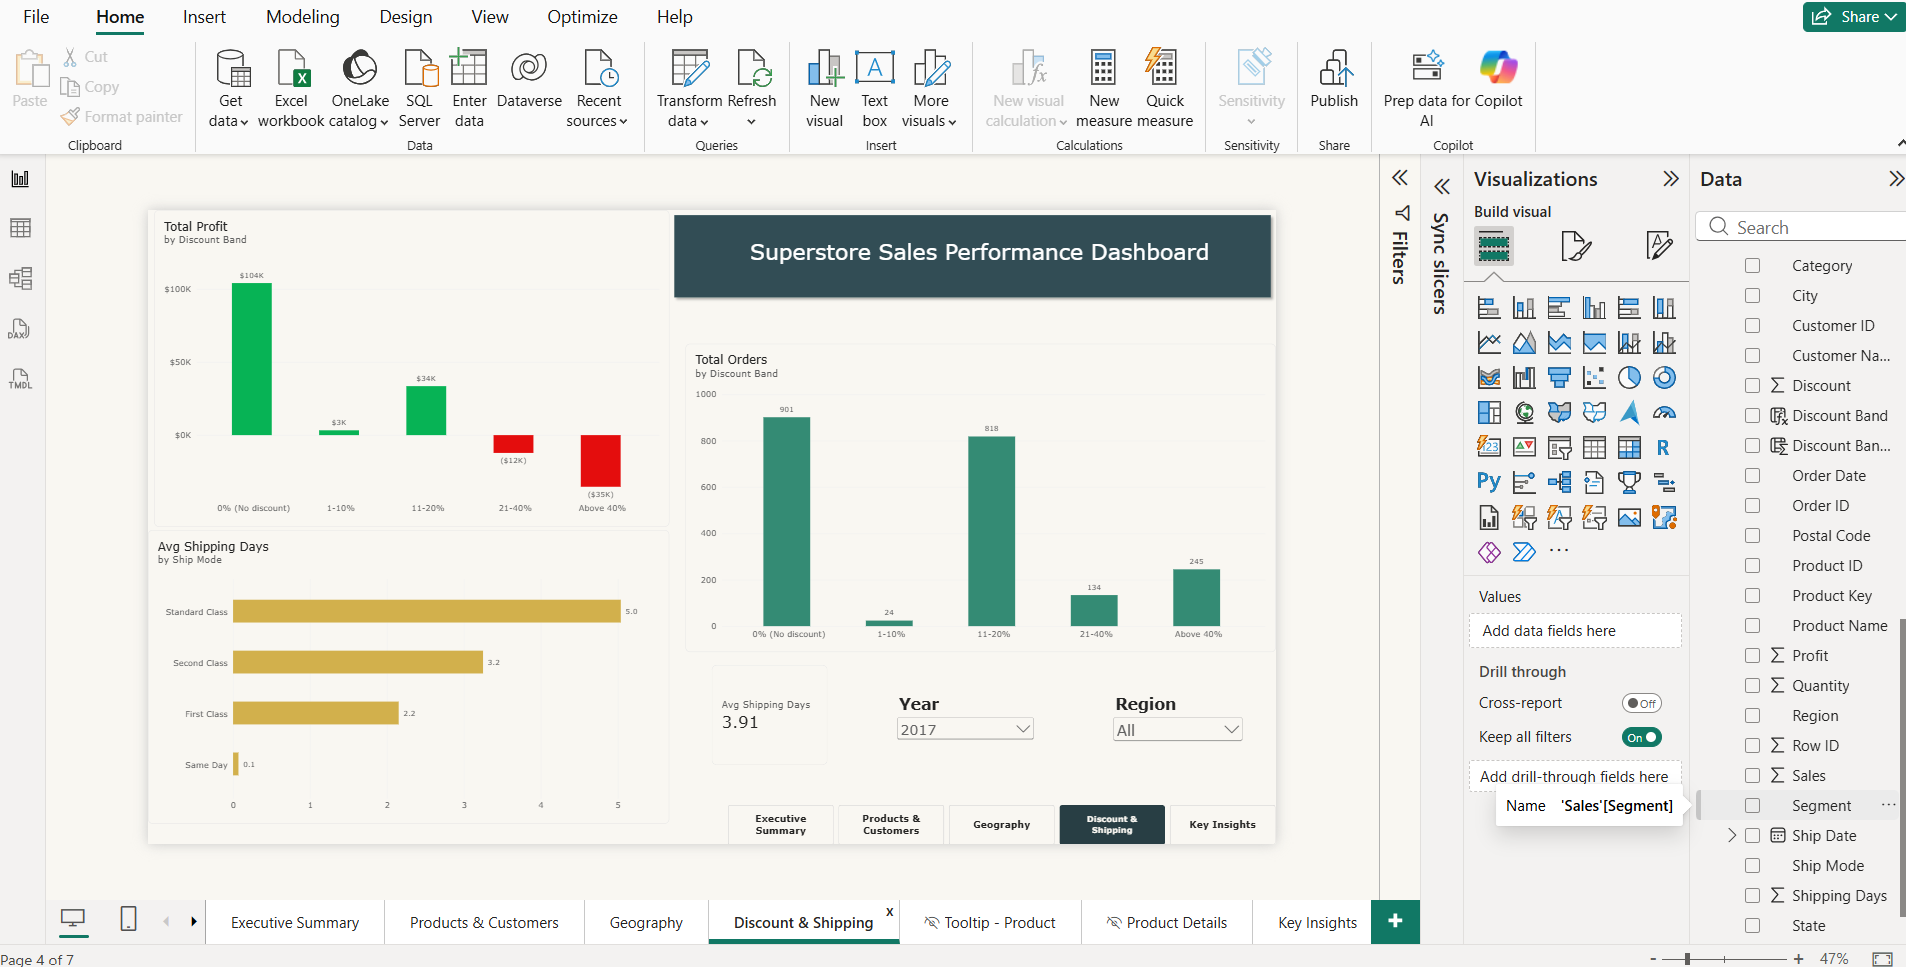

This screenshot's page, from the dashboard's own definition file:
{"tool":"powerbi","page":{"name":"Discount & Shipping","canvas":[1920,1080],"ordinal":3},"visuals":[{"type":"clusteredColumnChart","fields":{"Category":["Sales.Discount Band"],"Y":["_Measures.Total Profit"]},"box":[10.3,0,876.8,539.3],"z":0},{"type":"shape","box":[887.5,0,1032.5,157.5],"z":0},{"type":"clusteredColumnChart","fields":{"Category":["Sales.Discount Band"],"Y":["_Measures.Total Orders"]},"box":[915,227.5,1004.5,524.9],"z":1},{"type":"clusteredBarChart","fields":{"Category":["Sales.Ship Mode"],"Y":["_Measures.Avg Shipping Days"]},"box":[0,545,887.5,500],"z":2},{"type":"cardVisual","fields":{"Data":["_Measures.Avg Shipping Days"]},"box":[960,775,197.5,170],"z":3},{"type":"slicer","fields":{"Values":["DateTable.Year"]},"box":[1270,822.5,242.5,150.2],"z":6},{"type":"slicer","fields":{"Values":["Sales.Region"]},"box":[1637.5,822.5,229.8,150.2],"z":7},{"type":"pageNavigator","box":[987.1,1012.2,932.9,68.9],"z":8},{"type":"textbox","box":[910,47.5,1010,60],"z":1000}]}

Visuals, with their boxes on the page's 1920x1080 design canvas (x1, y1, x2, y2). These are canvas units, not pixel positions in the 1906x967 screenshot, which may show the page scaled, cropped or inside an application window:
clusteredColumnChart - Sales.Discount Band x _Measures.Total Profit: [left=10, top=0, right=887, bottom=539]
shape: [left=888, top=0, right=1920, bottom=158]
clusteredColumnChart - Sales.Discount Band x _Measures.Total Orders: [left=915, top=228, right=1920, bottom=752]
clusteredBarChart - Sales.Ship Mode x _Measures.Avg Shipping Days: [left=0, top=545, right=888, bottom=1045]
cardVisual - _Measures.Avg Shipping Days: [left=960, top=775, right=1158, bottom=945]
slicer - DateTable.Year: [left=1270, top=822, right=1512, bottom=973]
slicer - Sales.Region: [left=1638, top=822, right=1867, bottom=973]
pageNavigator: [left=987, top=1012, right=1920, bottom=1081]
textbox: [left=910, top=48, right=1920, bottom=108]
